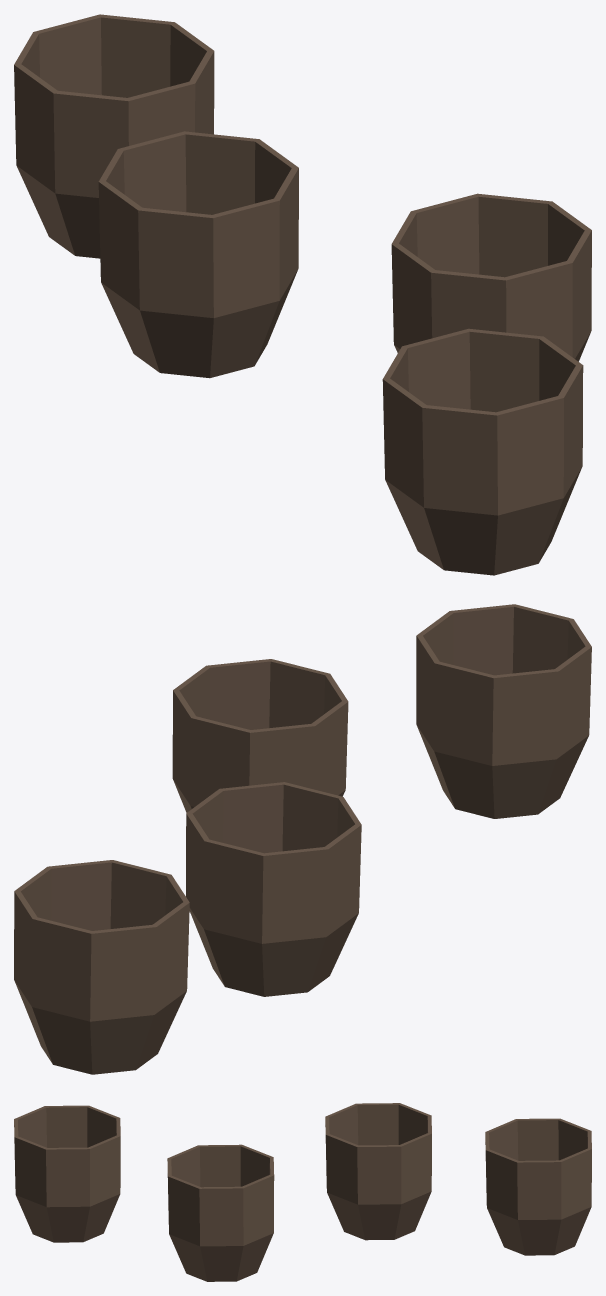
File: Living_Room_glasses.fbx
3 renders of one model, top to bottom at view 1: azimuth 30°, elevation 25°; view 2: azimuth 150°, elevation 25°; view 3: azimuth 270°, elevation 25°, orthographic. The views are drawn at different scales.
Visible parts, largest first — view 1: Living_Room_glasses; view 2: Living_Room_glasses; view 3: Living_Room_glasses.
Boxes of the visible parts, x1,y1,x2,y2 form: Living_Room_glasses: (14, 14, 591, 575); Living_Room_glasses: (14, 604, 591, 1074); Living_Room_glasses: (14, 1103, 591, 1281).
Bounding box in the file's own units: 17.8 × 9.69 × 49.48.
